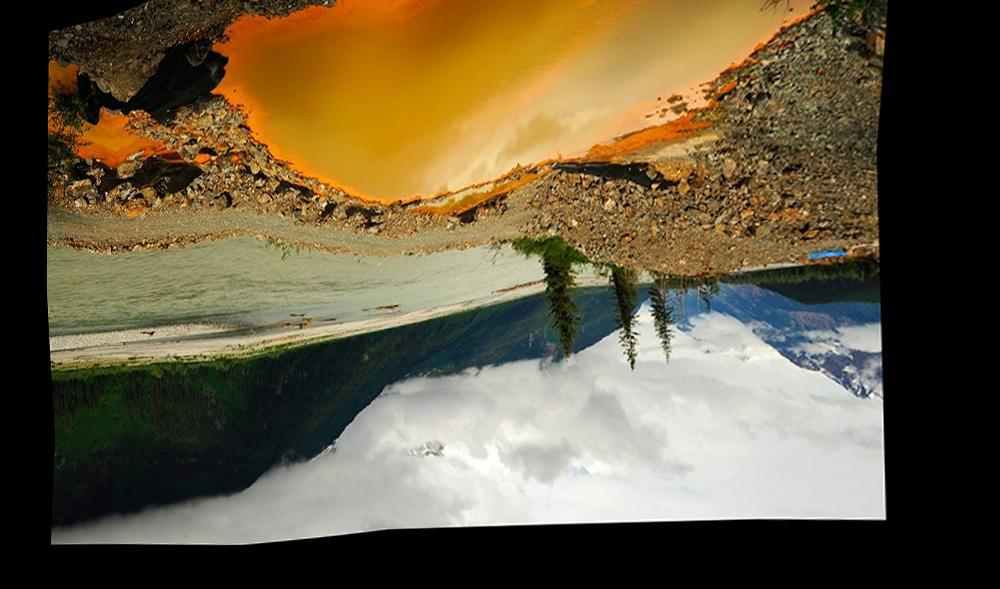Acid Pollution: (202, 3, 844, 208)
